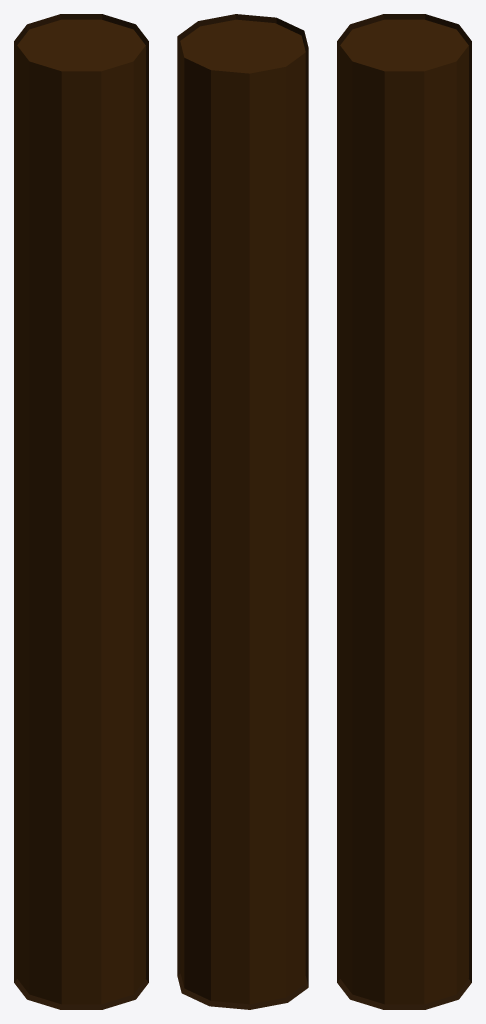
File: Fence_Post_(Outlined)v004.fbx
3 renders of one model, left to right at view 1: azimuth 90°, elevation 25°; view 2: azimuth 150°, elevation 25°; view 3: azimuth 270°, elevation 25°, orthographic.
Visible parts, largest first — view 1: Cylinder; view 2: Cylinder; view 3: Cylinder.
Part boxes in pixels (x1=…): Cylinder: x1=14, y1=14, x2=148, y2=1009; Cylinder: x1=177, y1=14, x2=308, y2=1009; Cylinder: x1=337, y1=14, x2=471, y2=1009.
Size of the model in its own units: 49.77 by 404 by 52.33.
